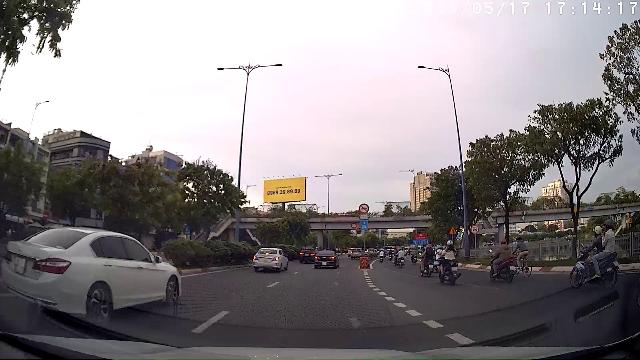103a-cam-oto: (470, 224, 480, 233)
